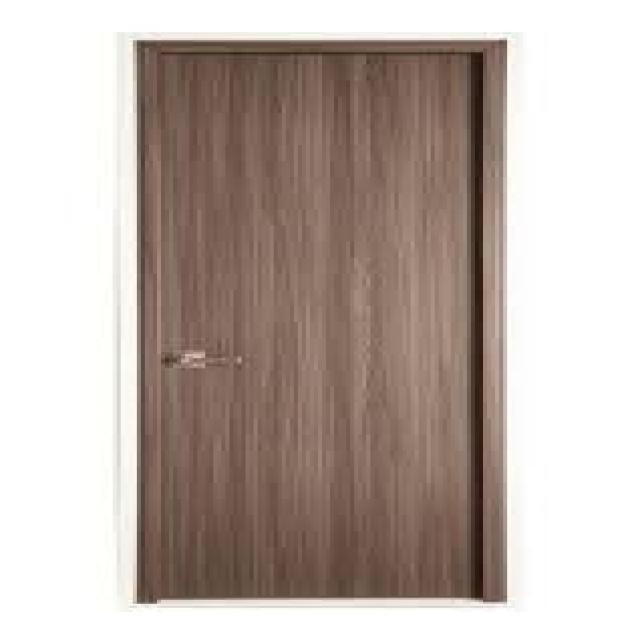door: (131, 36, 501, 604)
